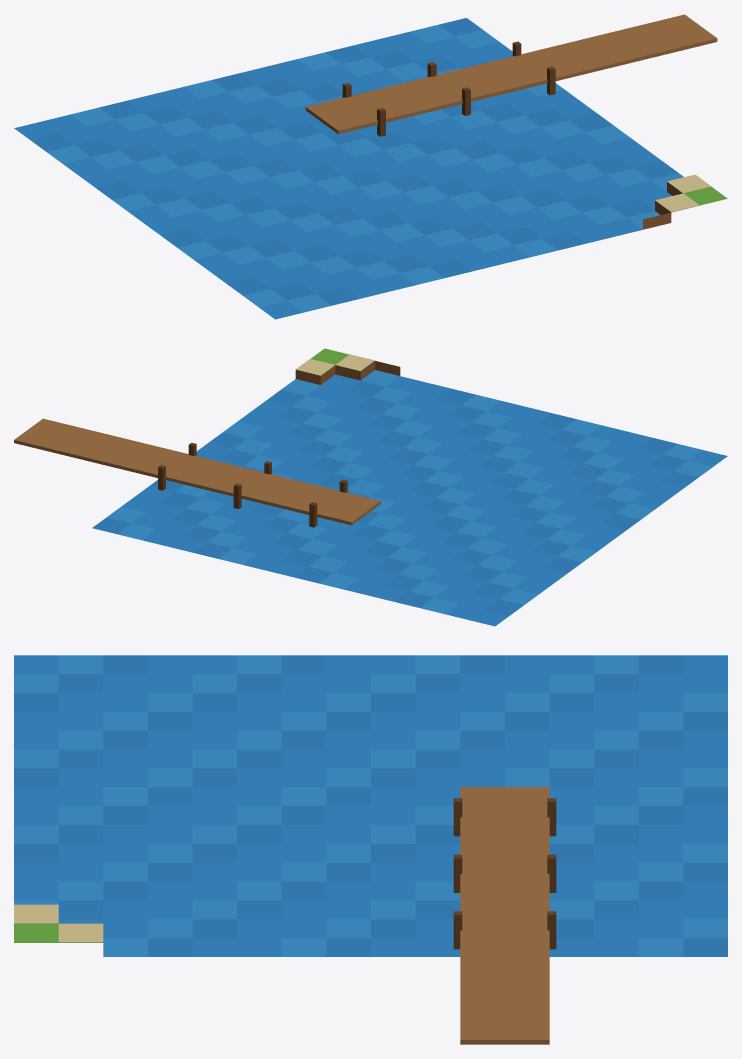
Rendered from chunk_4_15.glb.
3 views of the same model, one above another, from view 1: azimuth 30°, elevation 25°; view 2: azimuth 150°, elevation 25°; view 3: azimuth 270°, elevation 25° (orthographic). The views are drawn at different scales.
Parts seen in each view (by area): view 1: chunk_4_15; view 2: chunk_4_15; view 3: chunk_4_15.
Boxes of the visible parts, x1,y1,x2,y2 form: chunk_4_15: [14, 14, 727, 319]; chunk_4_15: [14, 348, 727, 626]; chunk_4_15: [14, 655, 727, 1044].
Bounding box in the file's own units: 21.4 × 0.85 × 16.
